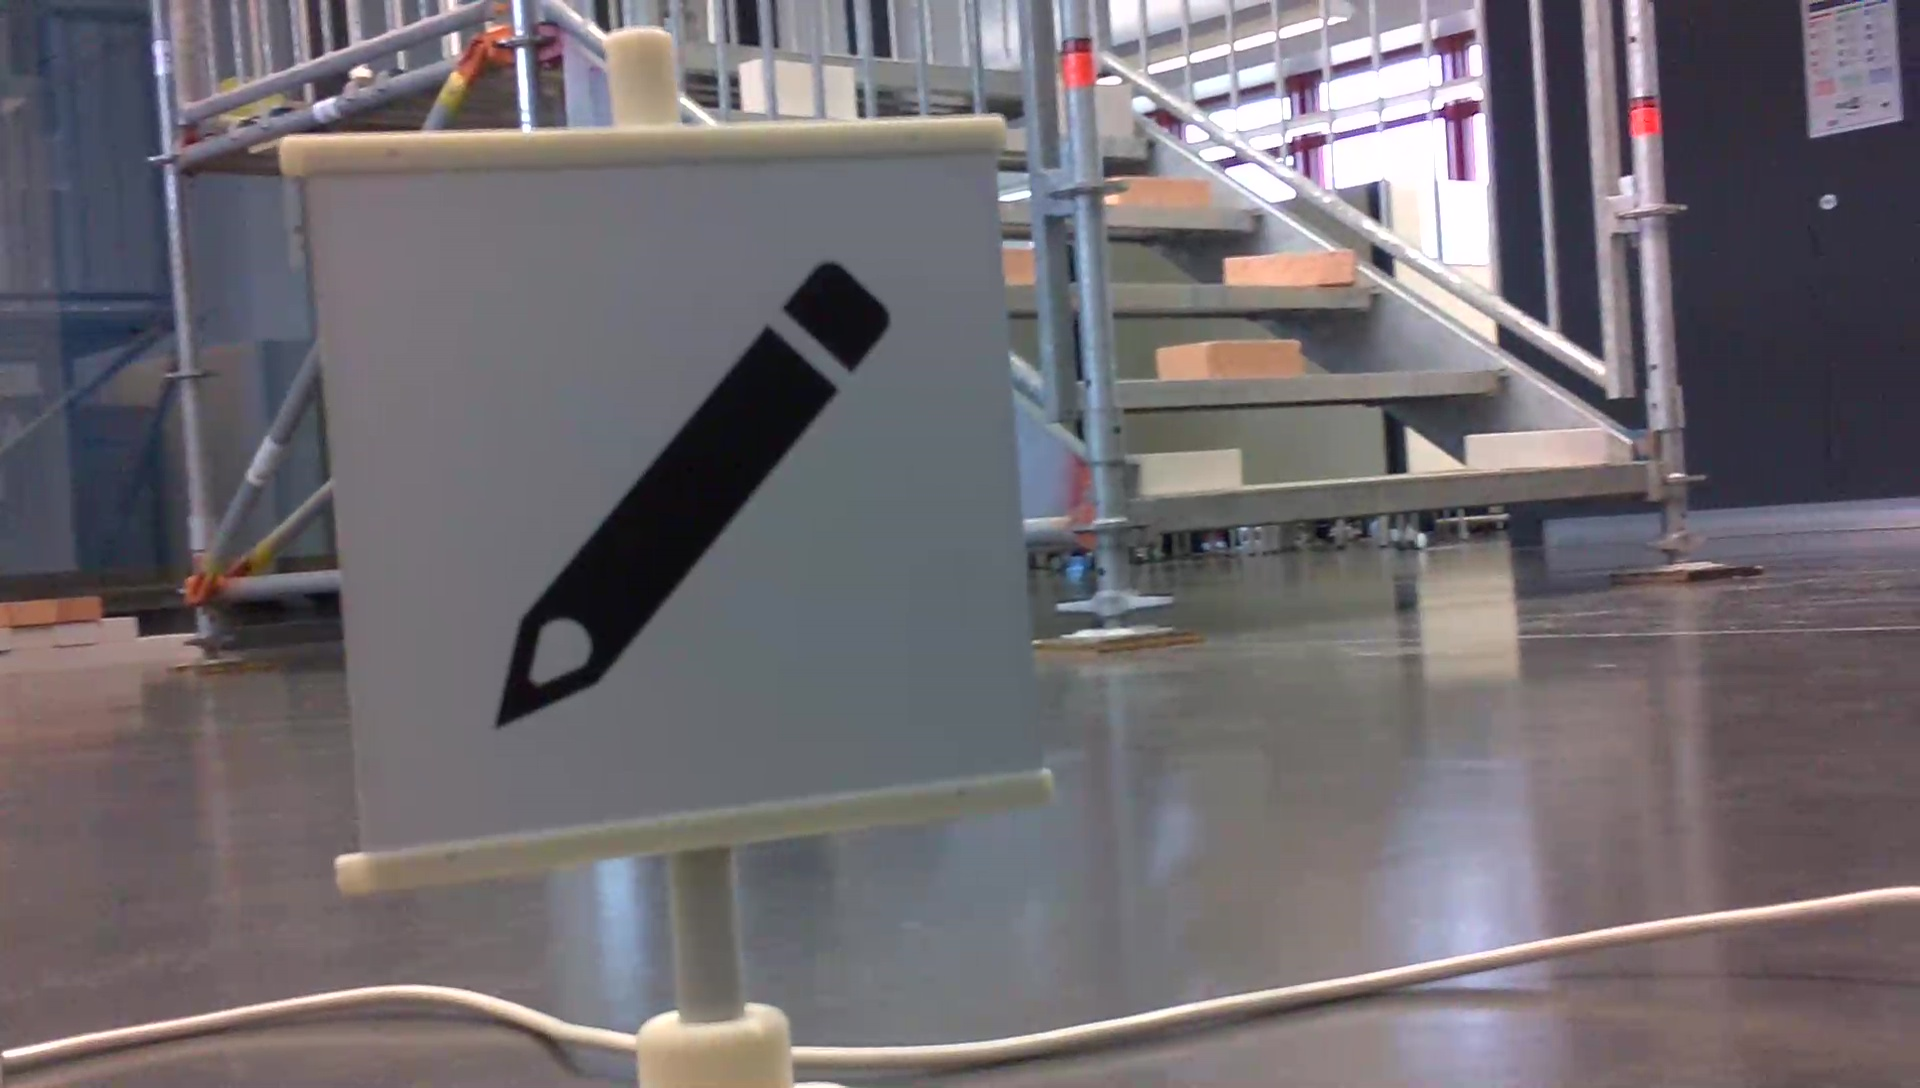brick: (1156, 342, 1300, 380), (1466, 429, 1605, 466), (1135, 450, 1240, 493), (1225, 251, 1353, 285), (1112, 175, 1209, 208), (1097, 84, 1127, 135)
edge: (1142, 463, 1646, 530), (1116, 369, 1513, 408)
pencil: (477, 239, 909, 742)
stairs: (1036, 3, 1756, 651)
